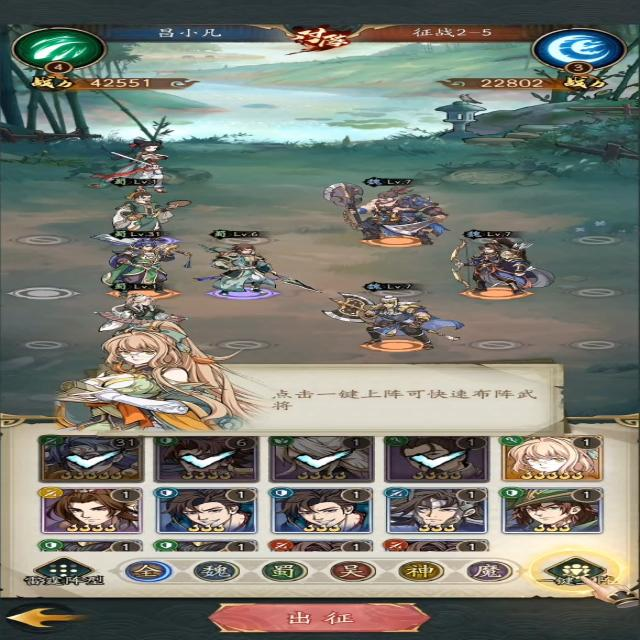hint-guide: (55, 327, 568, 438), (520, 546, 640, 612)
navigation-myHeroes: (38, 432, 149, 485), (267, 433, 378, 484), (379, 435, 493, 484), (495, 435, 608, 484), (152, 487, 258, 534), (499, 487, 604, 534), (37, 487, 141, 534), (388, 487, 492, 534), (273, 487, 375, 533), (153, 436, 259, 480)
operation-back: (3, 602, 92, 633)
operation-camp: (326, 559, 381, 582), (192, 560, 241, 583), (122, 560, 173, 582), (259, 560, 307, 583), (465, 560, 513, 582), (397, 560, 444, 582)
operation-confirm: (202, 603, 429, 634)
operation-deployment: (19, 556, 103, 588)
operation-oneKeyDeployment: (538, 556, 618, 588)
